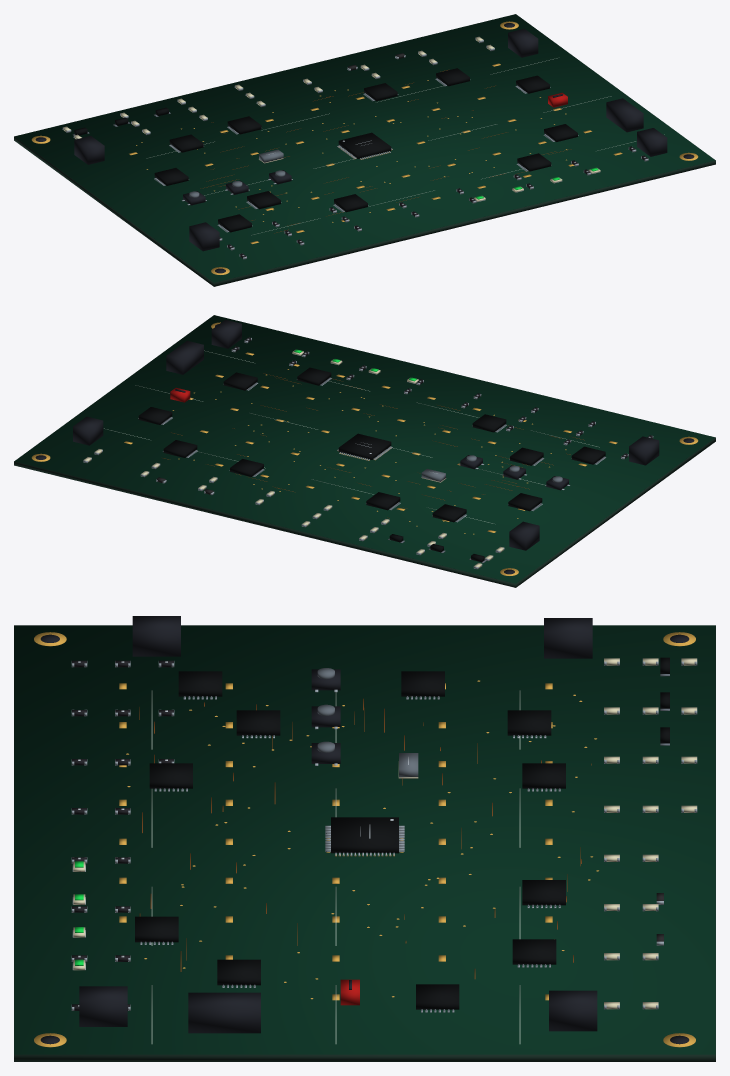
The model's file is L100_COMPLETED_BOARD_REFERENCE_ONLY.fbx.
3 views of the same model, one above another, from view 1: azimuth 30°, elevation 25°; view 2: azimuth 150°, elevation 25°; view 3: azimuth 270°, elevation 25° (orthographic). The views are drawn at different scales.
Parts seen in each view (by area): view 1: Part_763, Part_762, Part_678, Part_000, Part_691, Part_660, Part_669, Part_700; view 2: Part_763, Part_762, Part_678, Part_000, Part_691, Part_660, Part_669, Part_700; view 3: Part_763, Part_762, Part_678, Part_000, Part_669, Part_660, Part_691, Part_700, Part_342, Part_377, Part_272, Part_132 (+7 smaller).
Boxes of the visible parts, x1,y1,x2,y2 form: Part_763: (14,14,715,282); Part_762: (14,14,715,286); Part_678: (606,98,643,132); Part_000: (338,132,391,158); Part_691: (189,222,219,251); Part_660: (74,136,104,164); Part_669: (508,28,538,57); Part_700: (637,128,667,156); Part_763: (14,315,715,583); Part_762: (14,315,715,587); Part_678: (166,340,203,374); Part_000: (338,433,391,459); Part_691: (629,436,659,465); Part_660: (509,521,539,550); Part_669: (73,416,103,445); Part_700: (211,319,241,348); Part_763: (14,625,715,1054); Part_762: (14,625,715,1061); Part_678: (188,992,260,1033); Part_000: (331,817,398,853); Part_669: (549,990,597,1031); Part_660: (544,618,592,658); Part_691: (132,616,180,656); Part_700: (79,986,127,1026); Part_342: (217,959,260,985); Part_377: (135,916,178,942); Part_272: (512,939,556,964); Part_132: (507,710,551,735).
Size of the model in its own units: 0.21 by 0.145 by 0.0081.
